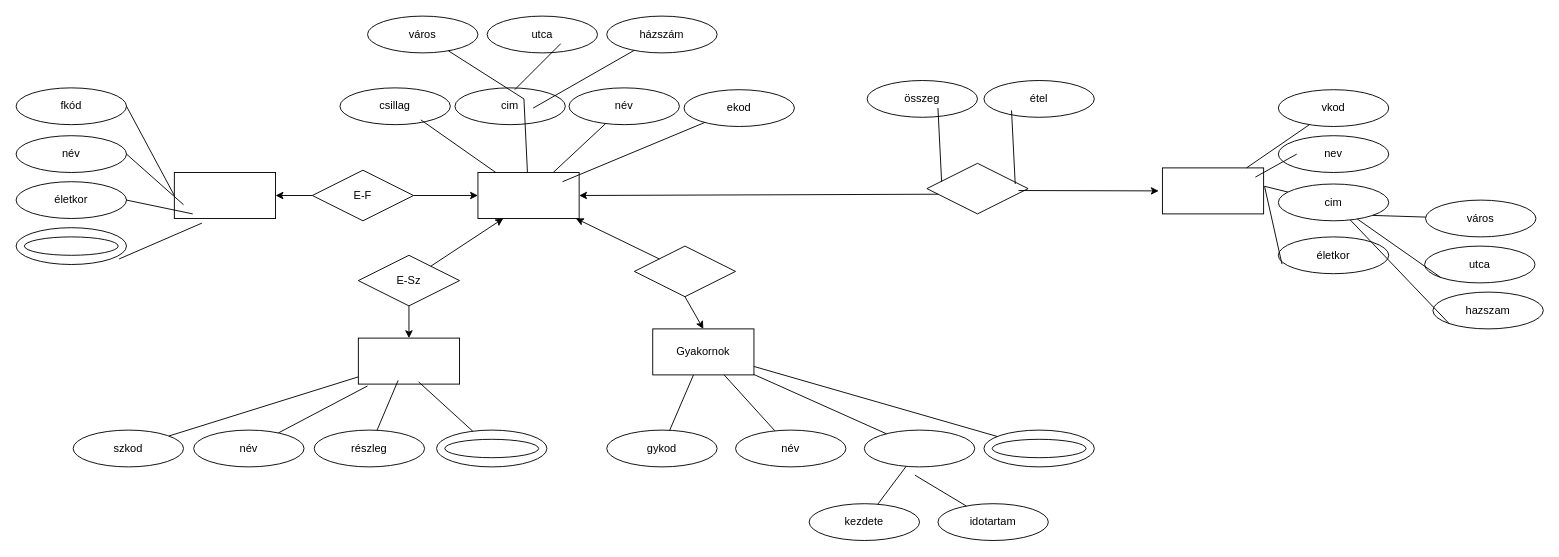
Image size: 1559x557. Some labels were removed from this diagram. Each missing label, with the centre of its shape:
E-Gy: the point at 684,271
Főszakács: the point at 224,195
gyakorlat: the point at 919,448
rendelés: the point at 977,188
Szakács: the point at 408,360
Vendég: the point at 1213,190
Étterem: the point at 528,195
